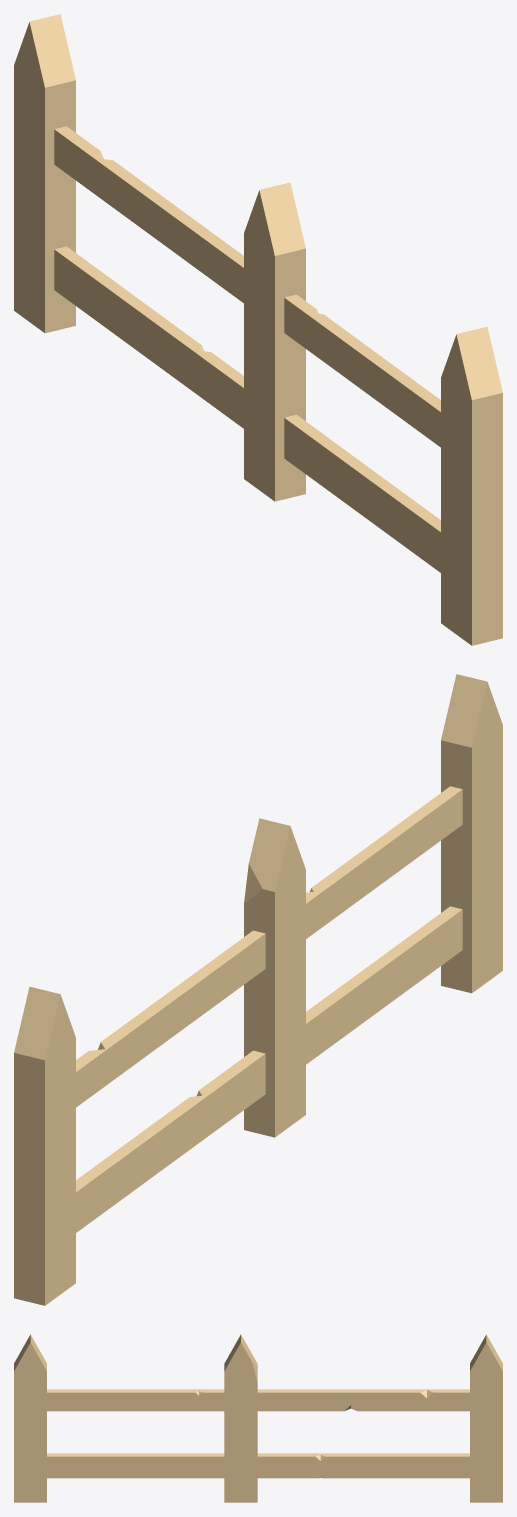
The model's file is Fence.fbx.
The picture shows the model from 3 angles, top to bottom: view 1: azimuth 30°, elevation 25°; view 2: azimuth 150°, elevation 25°; view 3: azimuth 270°, elevation 25°; orthographic projection. The views are drawn at different scales.
Visible parts, largest first — view 1: Cube; view 2: Cube; view 3: Cube.
Boxes of the visible parts, left/top/right/bottom form: Cube: left=14, top=14, right=502, bottom=645; Cube: left=14, top=674, right=502, bottom=1305; Cube: left=14, top=1334, right=502, bottom=1502.
Bounding box in the file's own units: 15.74 × 146 × 402.
